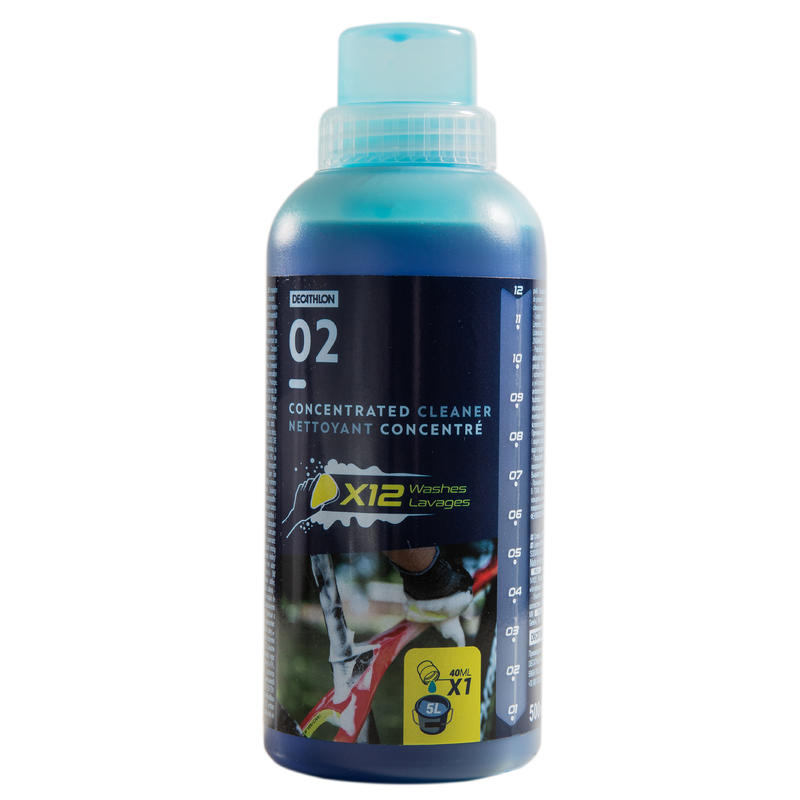Cleaning_solution: (254, 11, 549, 790)
